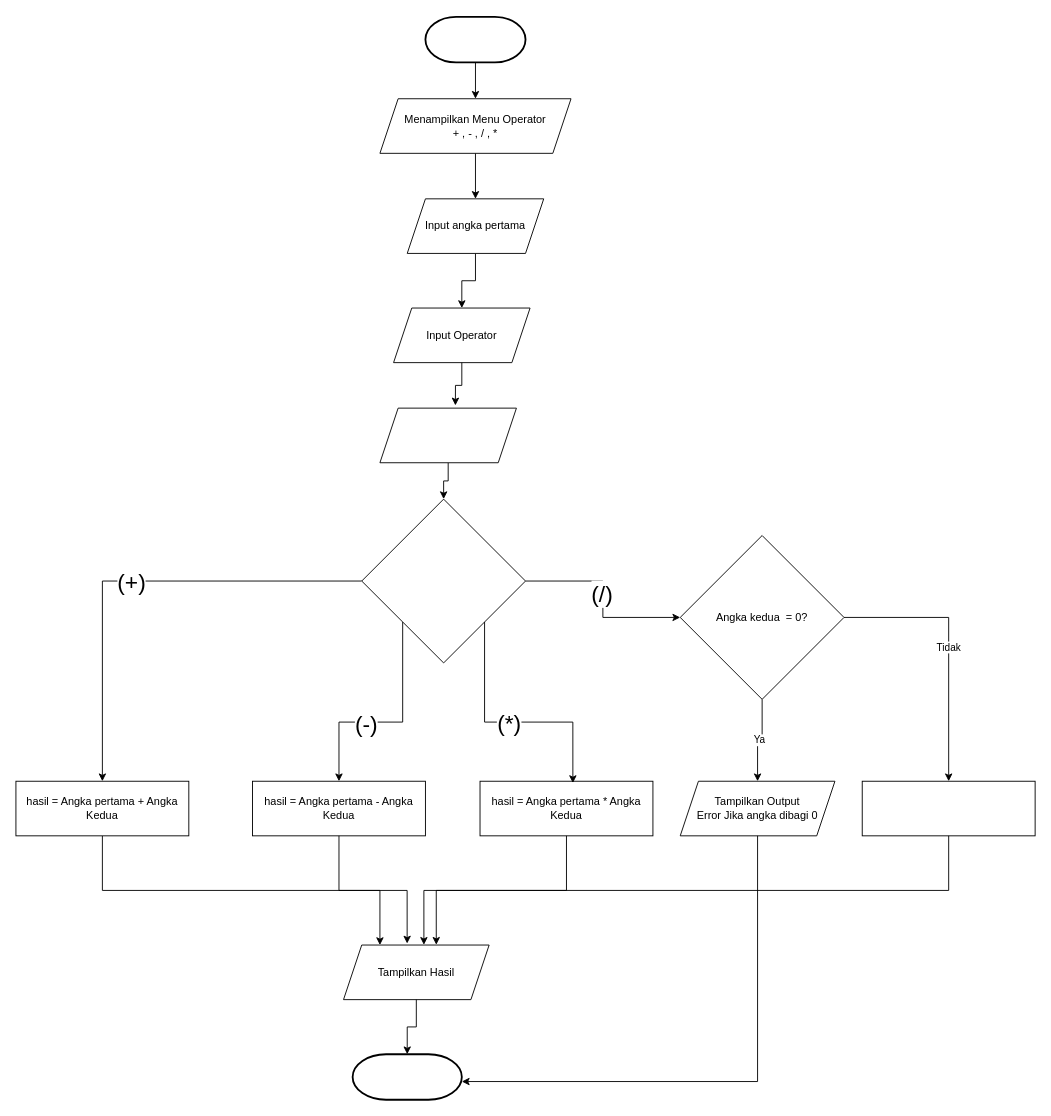
The diagram is 1051 pixels wide and 1116 high, and some of its shapes have lost their labels. Here are the shapes that lost their labels. From the top down, the centre of each, then its label:
At point (475, 39): "Start".
At point (447, 435): "Input angka kedua".
At point (443, 580): "Cek Operator".
At point (948, 808): "hasil = Angka pertama / Angka Kedua".
At point (406, 1076): "End".
